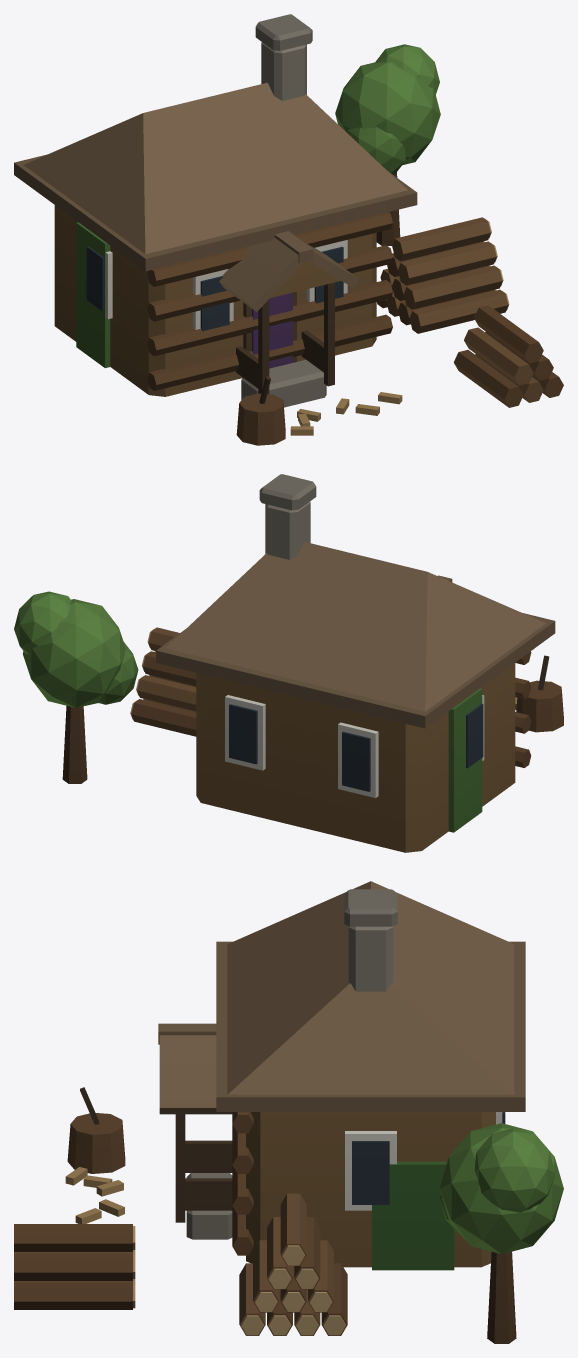
Rendered from lumber.glb.
3 views of the same model, one above another, from view 1: azimuth 30°, elevation 25°; view 2: azimuth 150°, elevation 25°; view 3: azimuth 270°, elevation 25° (orthographic). The views are drawn at different scales.
Parts seen in each view (by area): view 1: lumber_model; view 2: lumber_model; view 3: lumber_model.
Boxes of the visible parts, x1,y1,x2,y2 form: lumber_model: (14,14,563,445); lumber_model: (14,474,563,852); lumber_model: (14,881,563,1343).
Size of the model in its own units: 0.8779 by 0.6171 by 0.8554.
